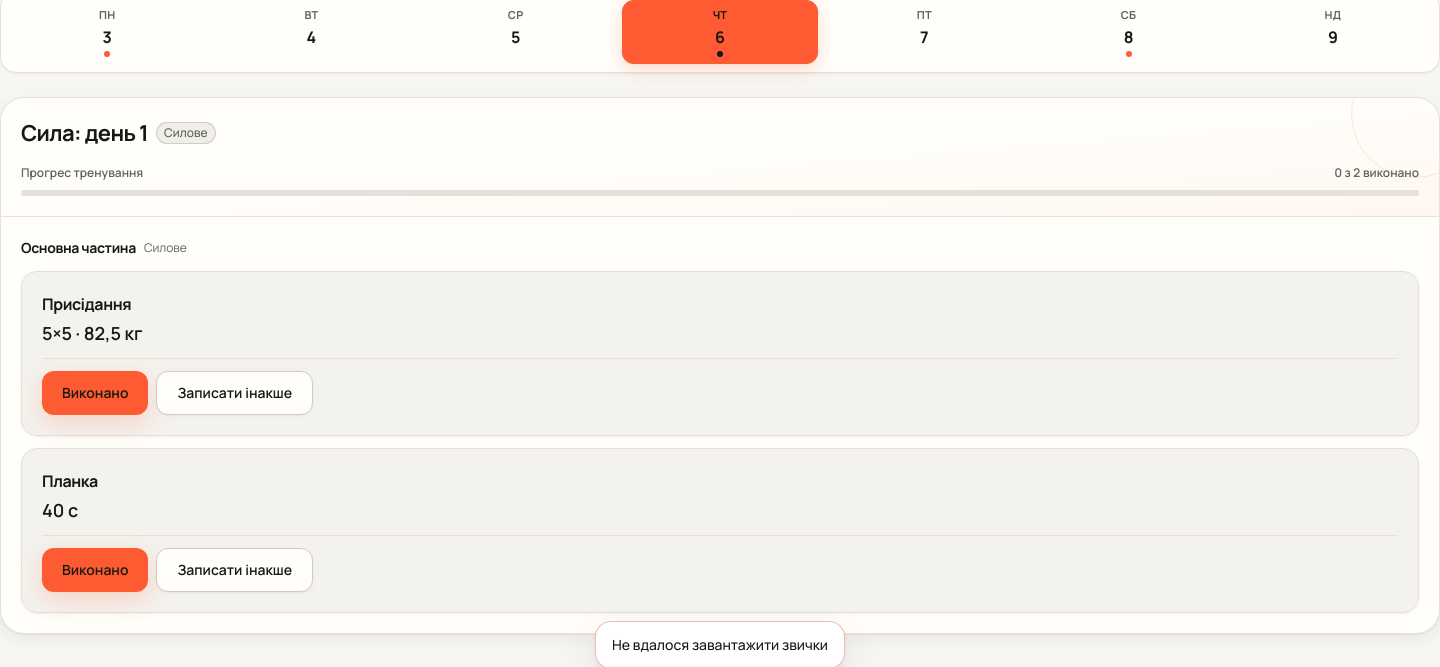
Test: workout logging › records a deliberate skip with a reason
Expected: the heading "Присідання" is shown, top-left (42, 293), bottom-right (131, 315)
Click the button "Записати інакше" below "5×5 · 82,5 кг".
click(235, 393)  # box top-left (156, 371), bottom-right (313, 415)
(page scrolled)
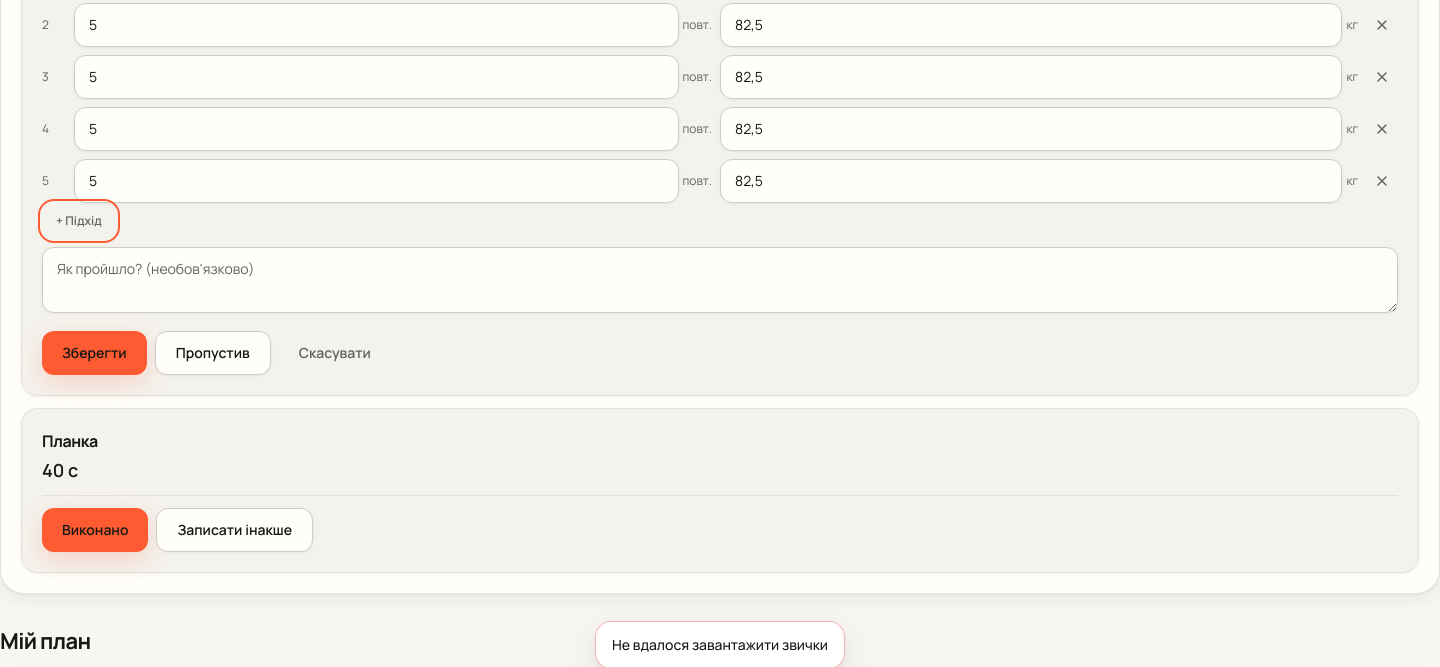
Type "біль у коліні" into the text box named "Нотатки до вправи".
click(720, 280); type("біль у коліні")  # box top-left (42, 247), bottom-right (1398, 313)
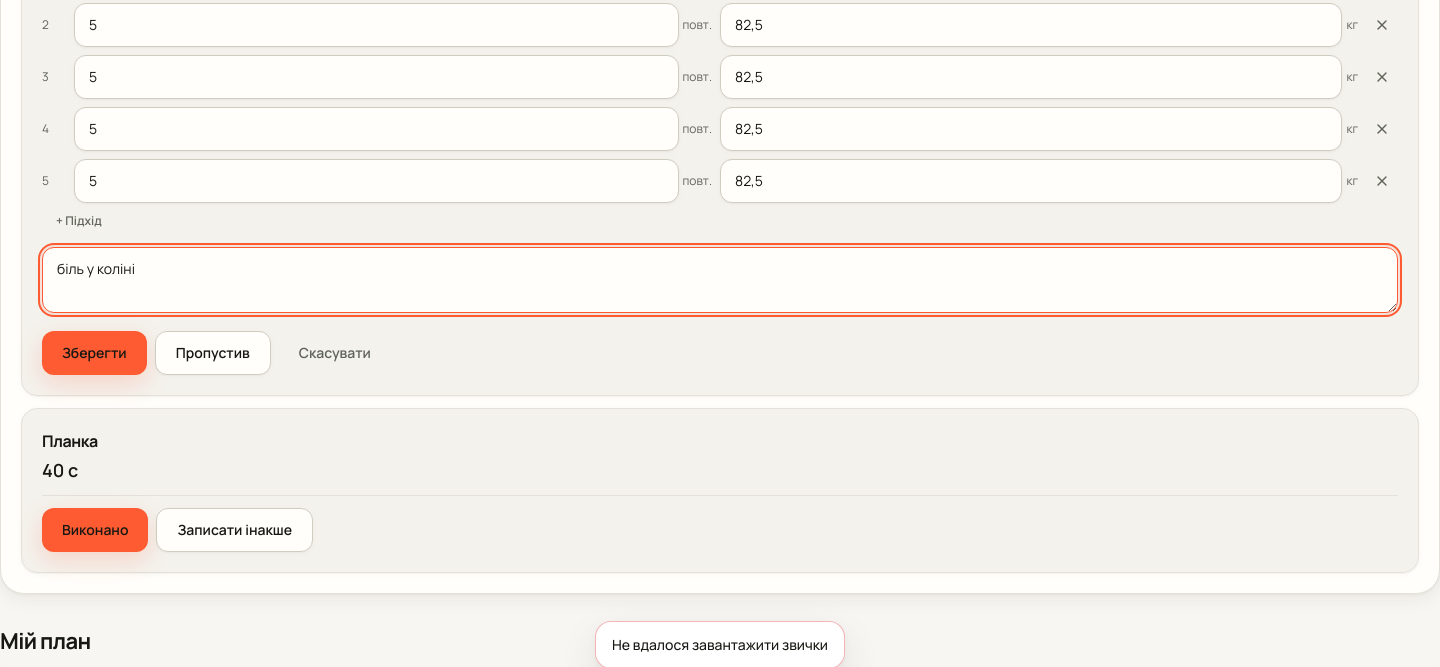
Click the button "Пропустив".
click(213, 353)  # box top-left (155, 331), bottom-right (271, 375)
(page scrolled)
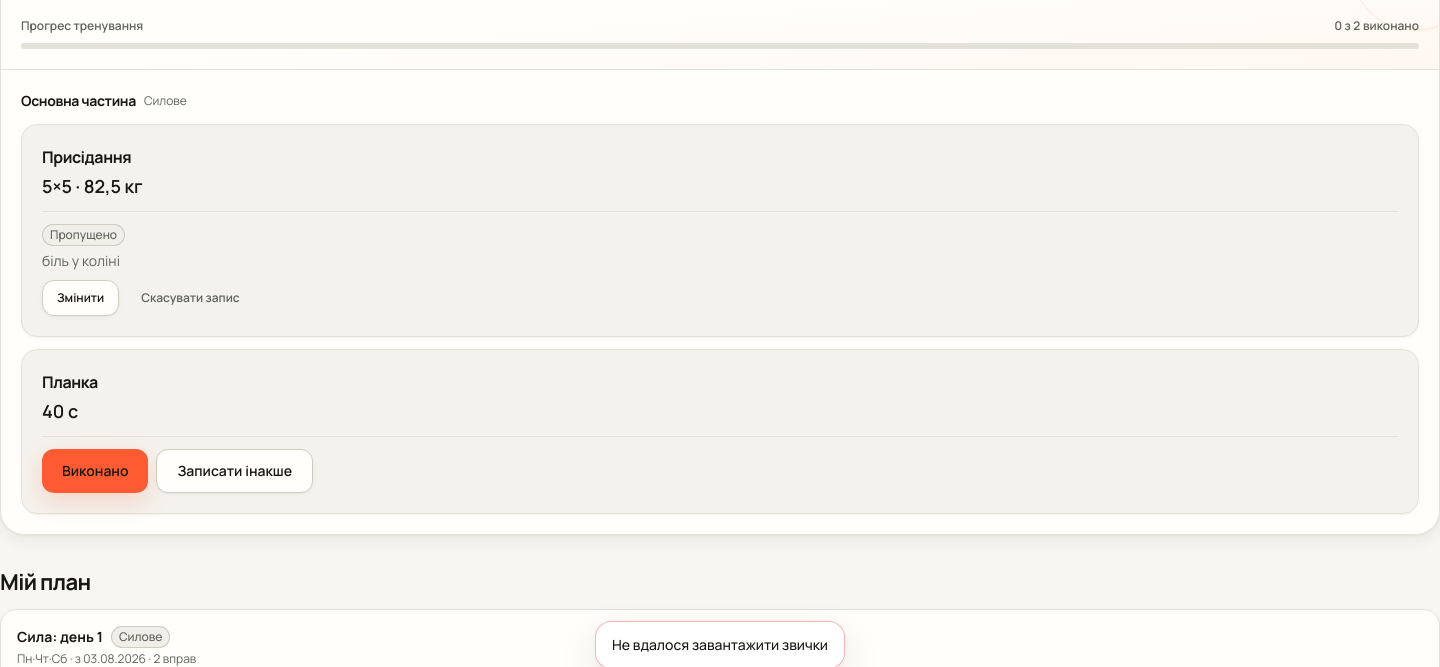
Expected: the text "0 з 2 виконано" is shown, top-left (1335, 17), bottom-right (1419, 35)
Expected: the text "Пропущено" is shown, top-left (42, 224), bottom-right (125, 246)
Expected: the text "біль у коліні" is shown, top-left (42, 251), bottom-right (120, 270)
